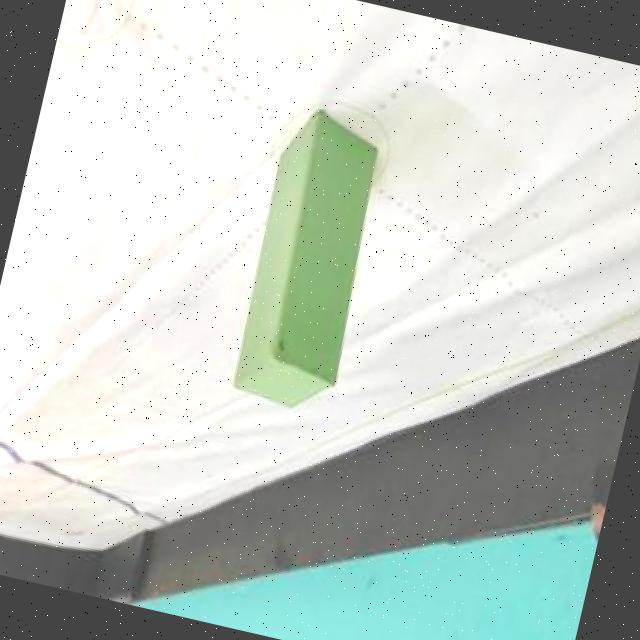greenbox: (223, 97, 400, 422)
